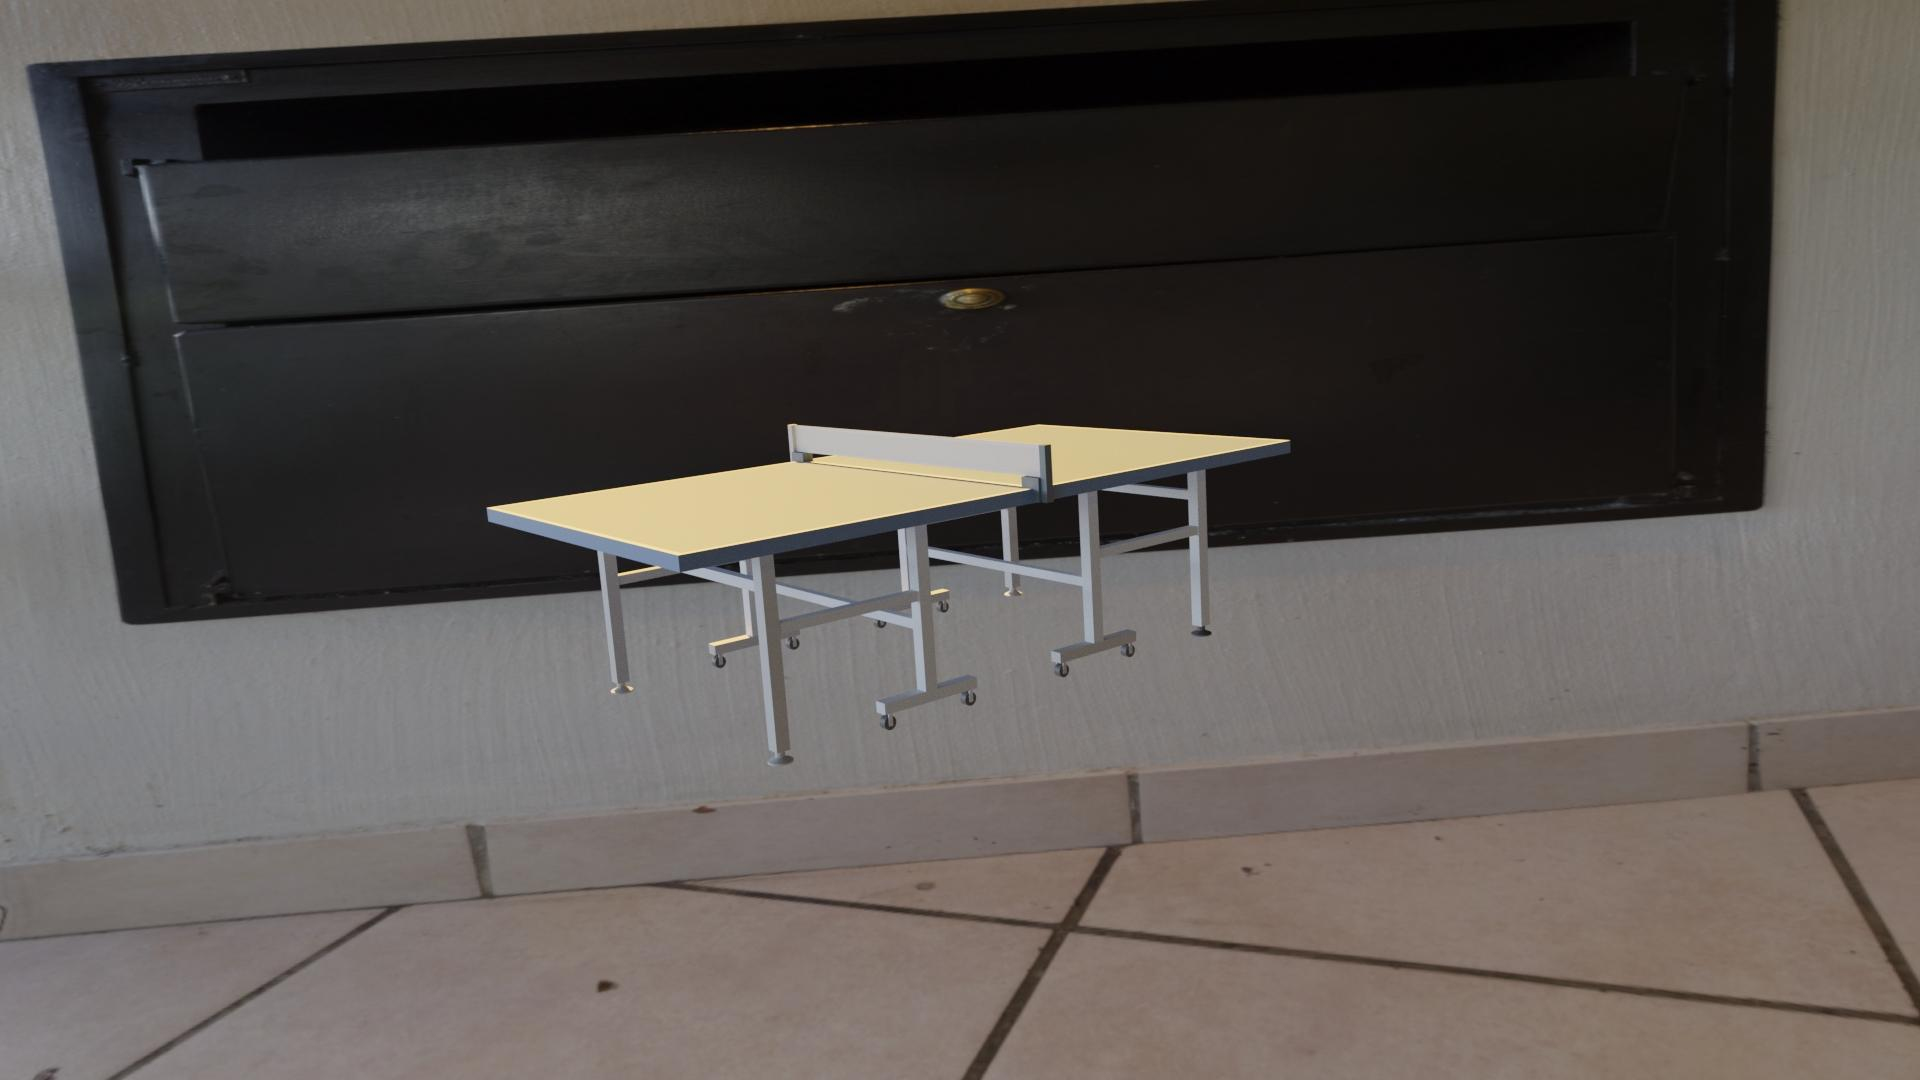table: (495, 426, 1283, 554)
